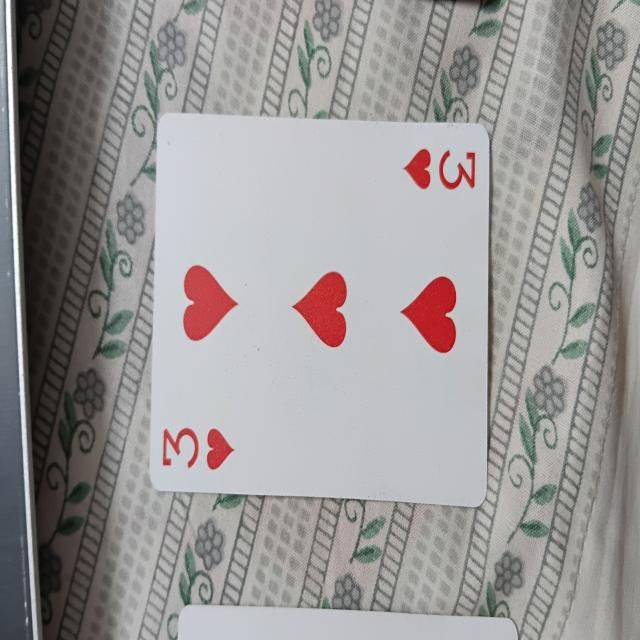3H: (155, 114, 487, 504)
